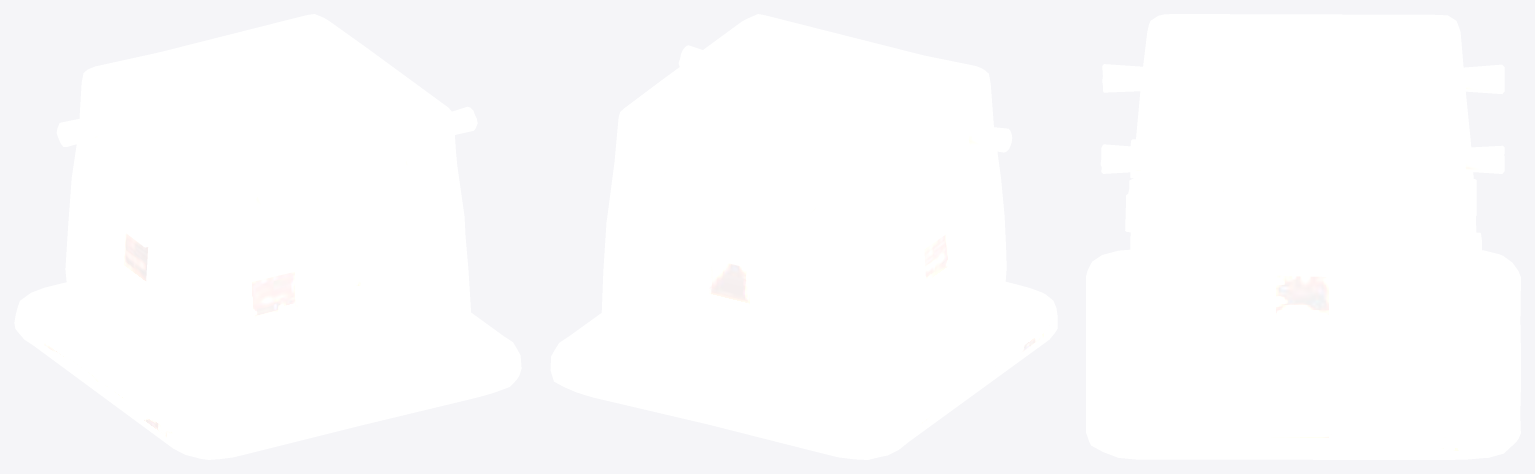
File: casa-adobe.glb
3 views of the same model, side by side, from view 1: azimuth 30°, elevation 25°; view 2: azimuth 150°, elevation 25°; view 3: azimuth 270°, elevation 25° (orthographic). The views are drawn at different scales.
Parts seen in each view (by area): view 1: mesh_node; view 2: mesh_node; view 3: mesh_node.
Part boxes in pixels (left/top/right/bottom): mesh_node: left=14, top=14, right=521, bottom=459; mesh_node: left=550, top=14, right=1057, bottom=459; mesh_node: left=1086, top=14, right=1520, bottom=459.
Size of the model in its own units: 1 by 0.7559 by 1.
1 material, 1 textured.
